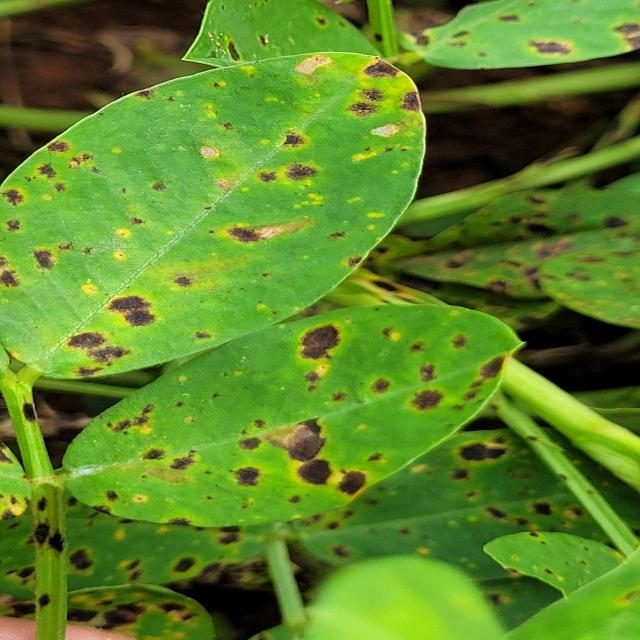Ground nut_tikka leaf spot: (1, 52, 429, 372), (55, 292, 522, 535)
